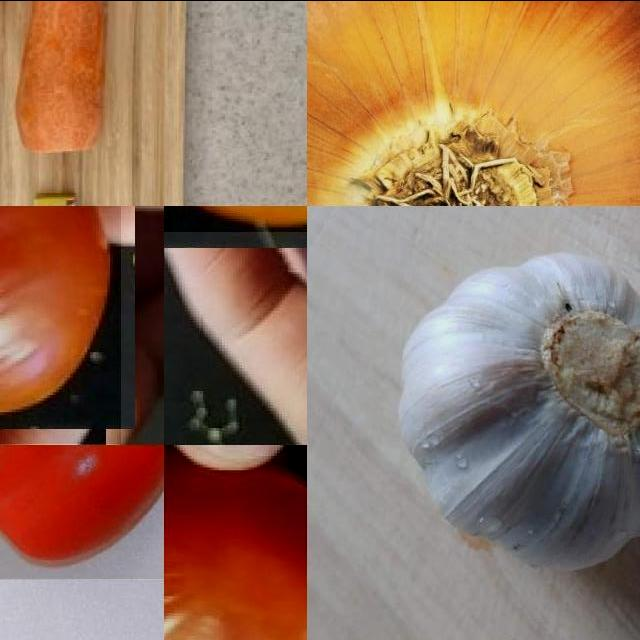carrot: (18, 1, 105, 157)
garlic: (399, 248, 640, 576)
onion: (308, 1, 640, 206)
tomato: (1, 445, 165, 579)
